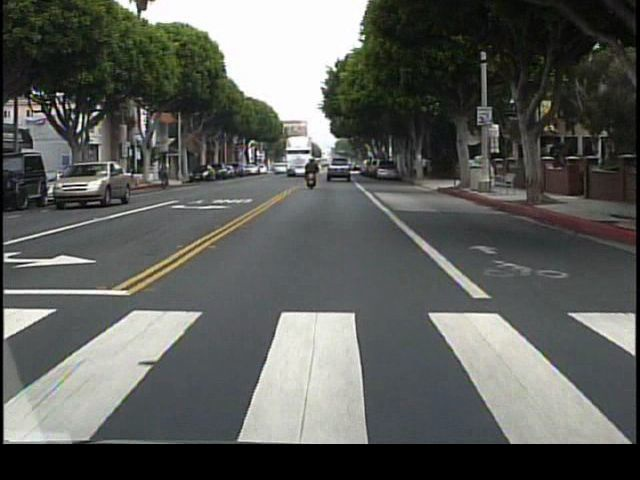person: (304, 155, 323, 197), (157, 159, 176, 188), (426, 155, 435, 185), (422, 156, 428, 179)
